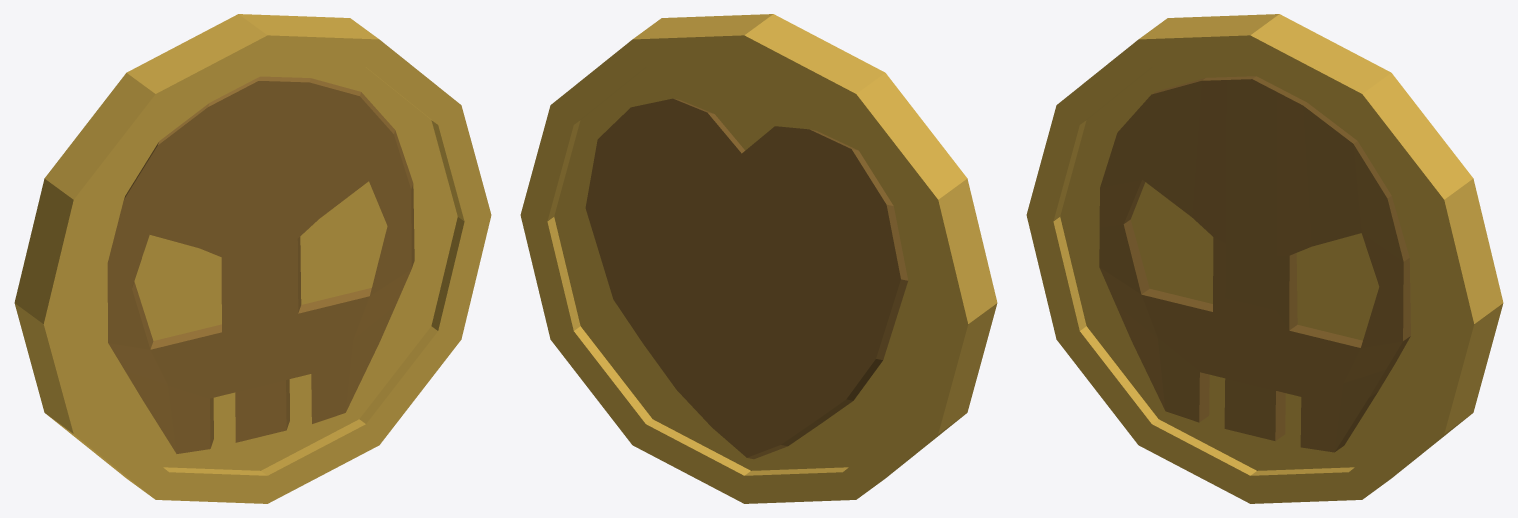
File: Coin.fbx
3 renders of one model, left to right at view 1: azimuth 30°, elevation 25°; view 2: azimuth 150°, elevation 25°; view 3: azimuth 330°, elevation 25°, orthographic.
Parts seen in each view (by area): view 1: Coin; view 2: Coin; view 3: Coin.
Boxes of the visible parts, bbox=[...] form: Coin: bbox=[14, 14, 491, 503]; Coin: bbox=[520, 14, 997, 503]; Coin: bbox=[1026, 14, 1503, 503].
Size of the model in its own units: 2 by 2 by 0.2355.
